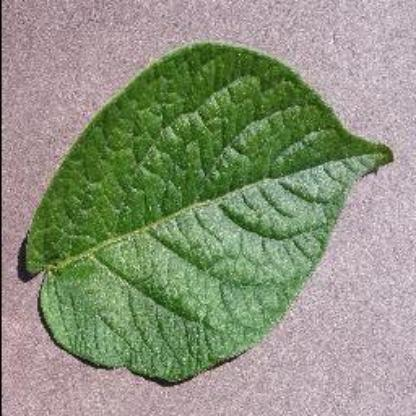Healthy-plant: (6, 31, 416, 400)
